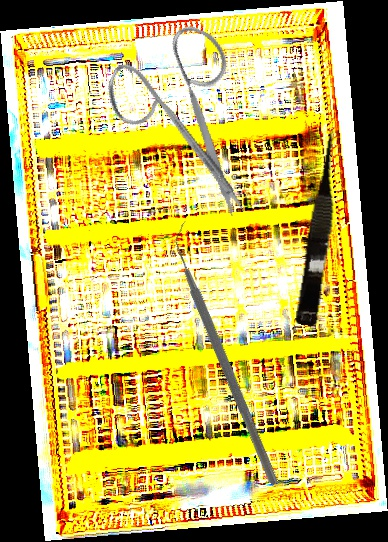Chopper: (89, 219, 370, 486)
Iris Scissors: (79, 4, 306, 221)
Micro Scissor: (294, 125, 350, 328)
